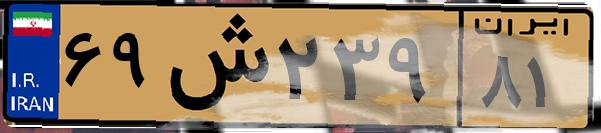1: (525, 38, 570, 115)
2: (270, 28, 330, 110)
3: (330, 28, 385, 110)
6: (57, 26, 110, 100)
8: (475, 38, 525, 113)
9: (385, 28, 445, 110), (110, 28, 158, 98)
ش: (158, 12, 270, 120)
